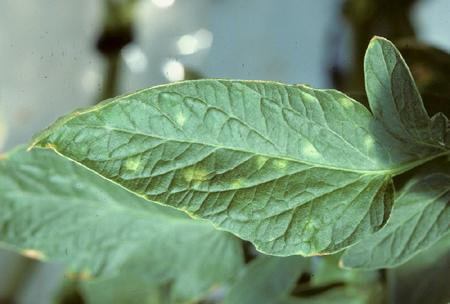Tomato mold leaf: (41, 39, 436, 262)
